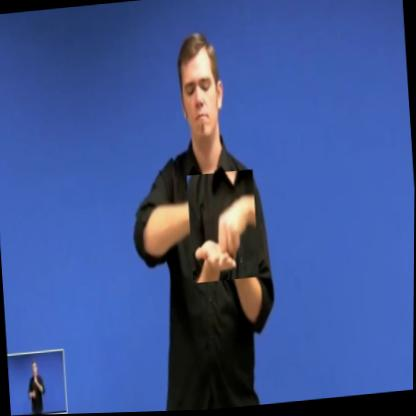Expensive: (187, 170, 260, 285)
